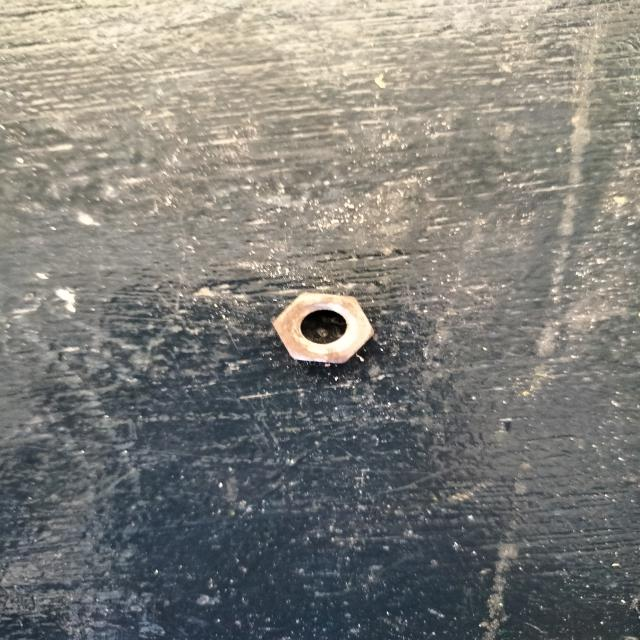nuts: (274, 293, 375, 363)
